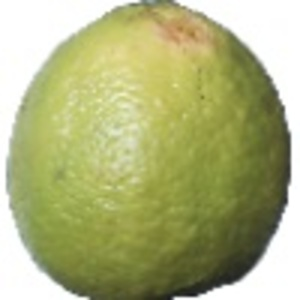limão: (7, 1, 292, 300)
